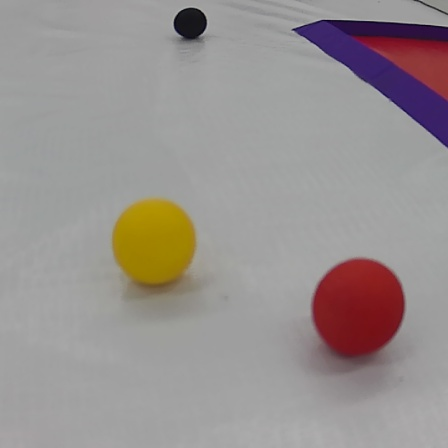black: (171, 5, 218, 46)
red: (312, 256, 407, 359)
red_aim: (291, 10, 448, 147)
yellow: (105, 197, 203, 296)
